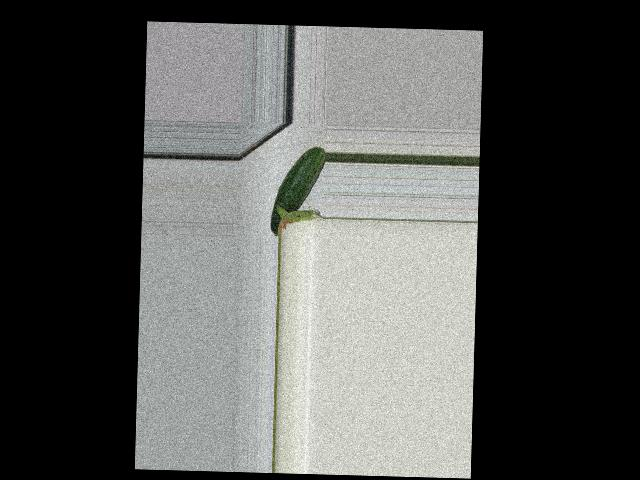cucumber: (270, 145, 326, 237)
